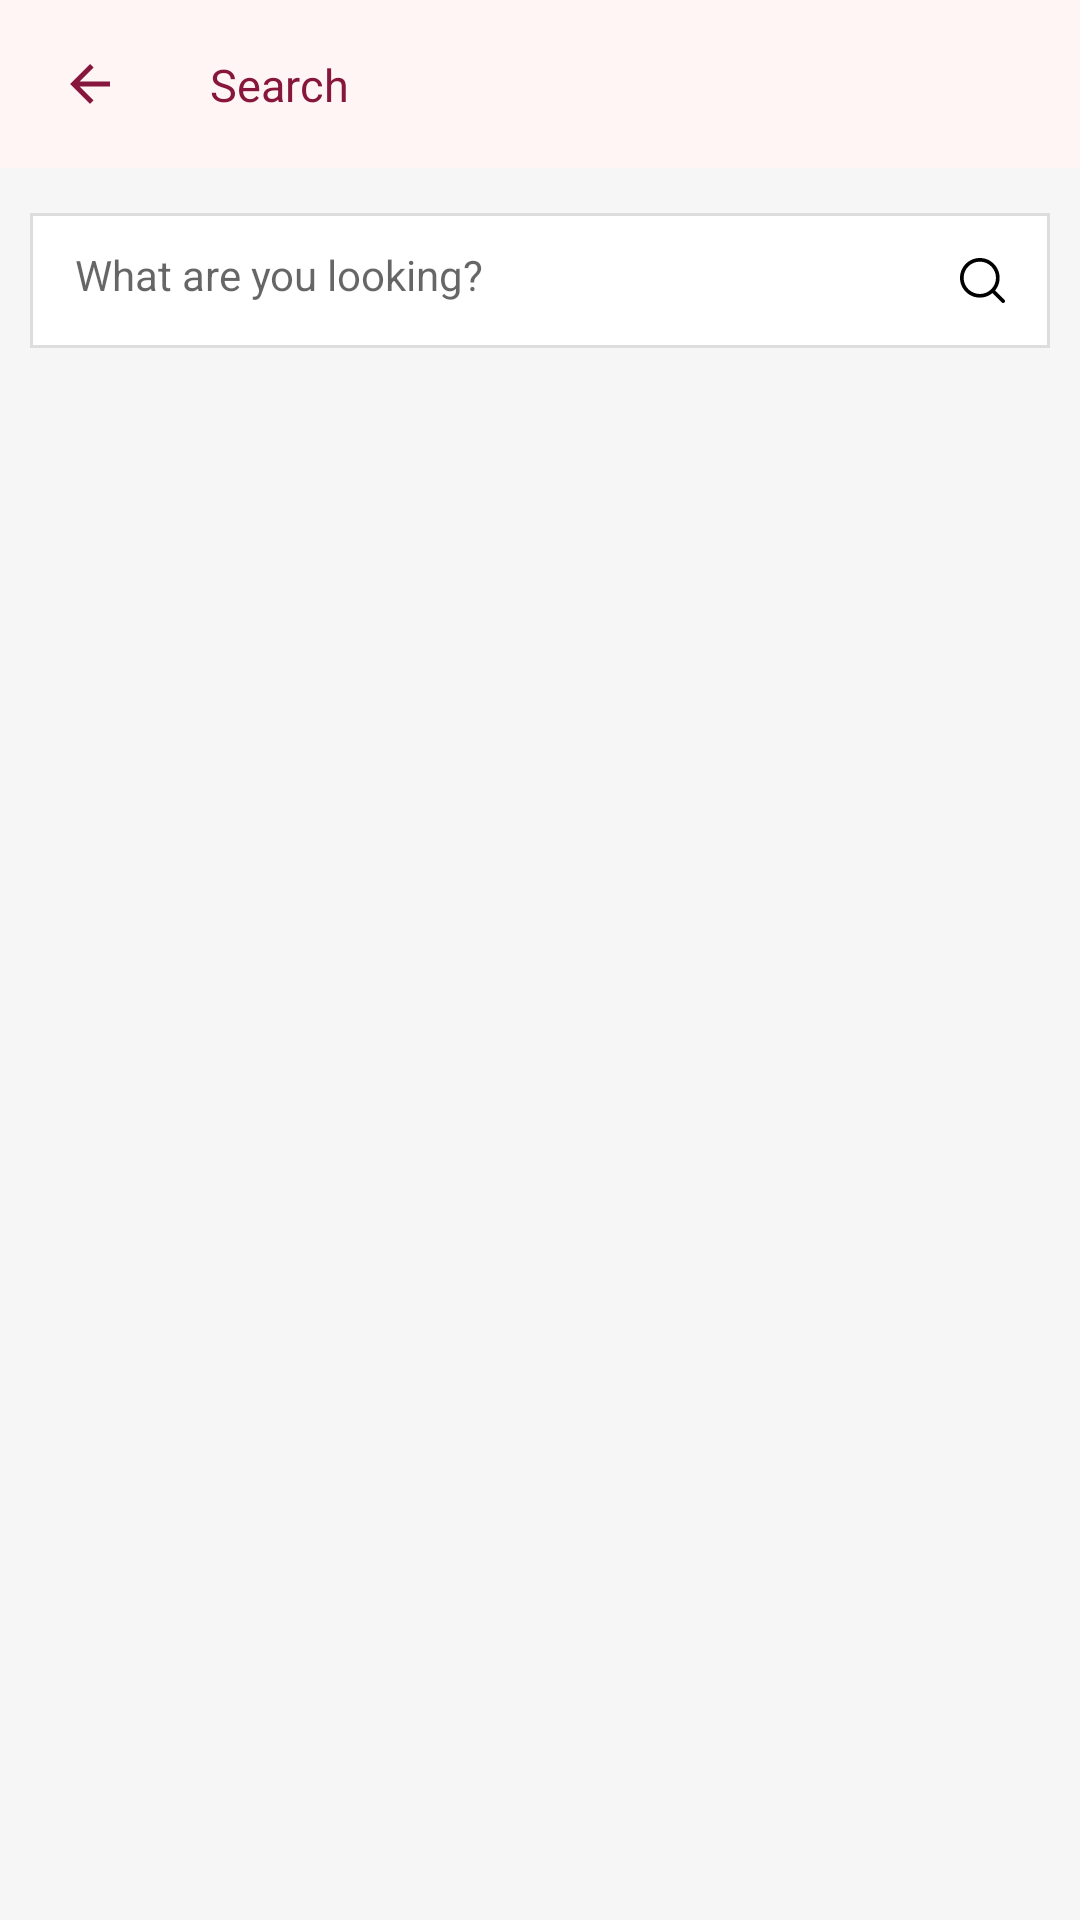

Icons on this 1080*1920 Android screen, each with the point to tap as [x,y]:
arrow back: [90,84]
